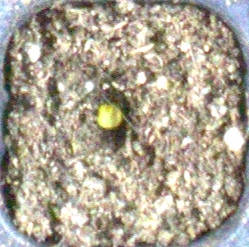pepper seed: (35, 37, 159, 168)
